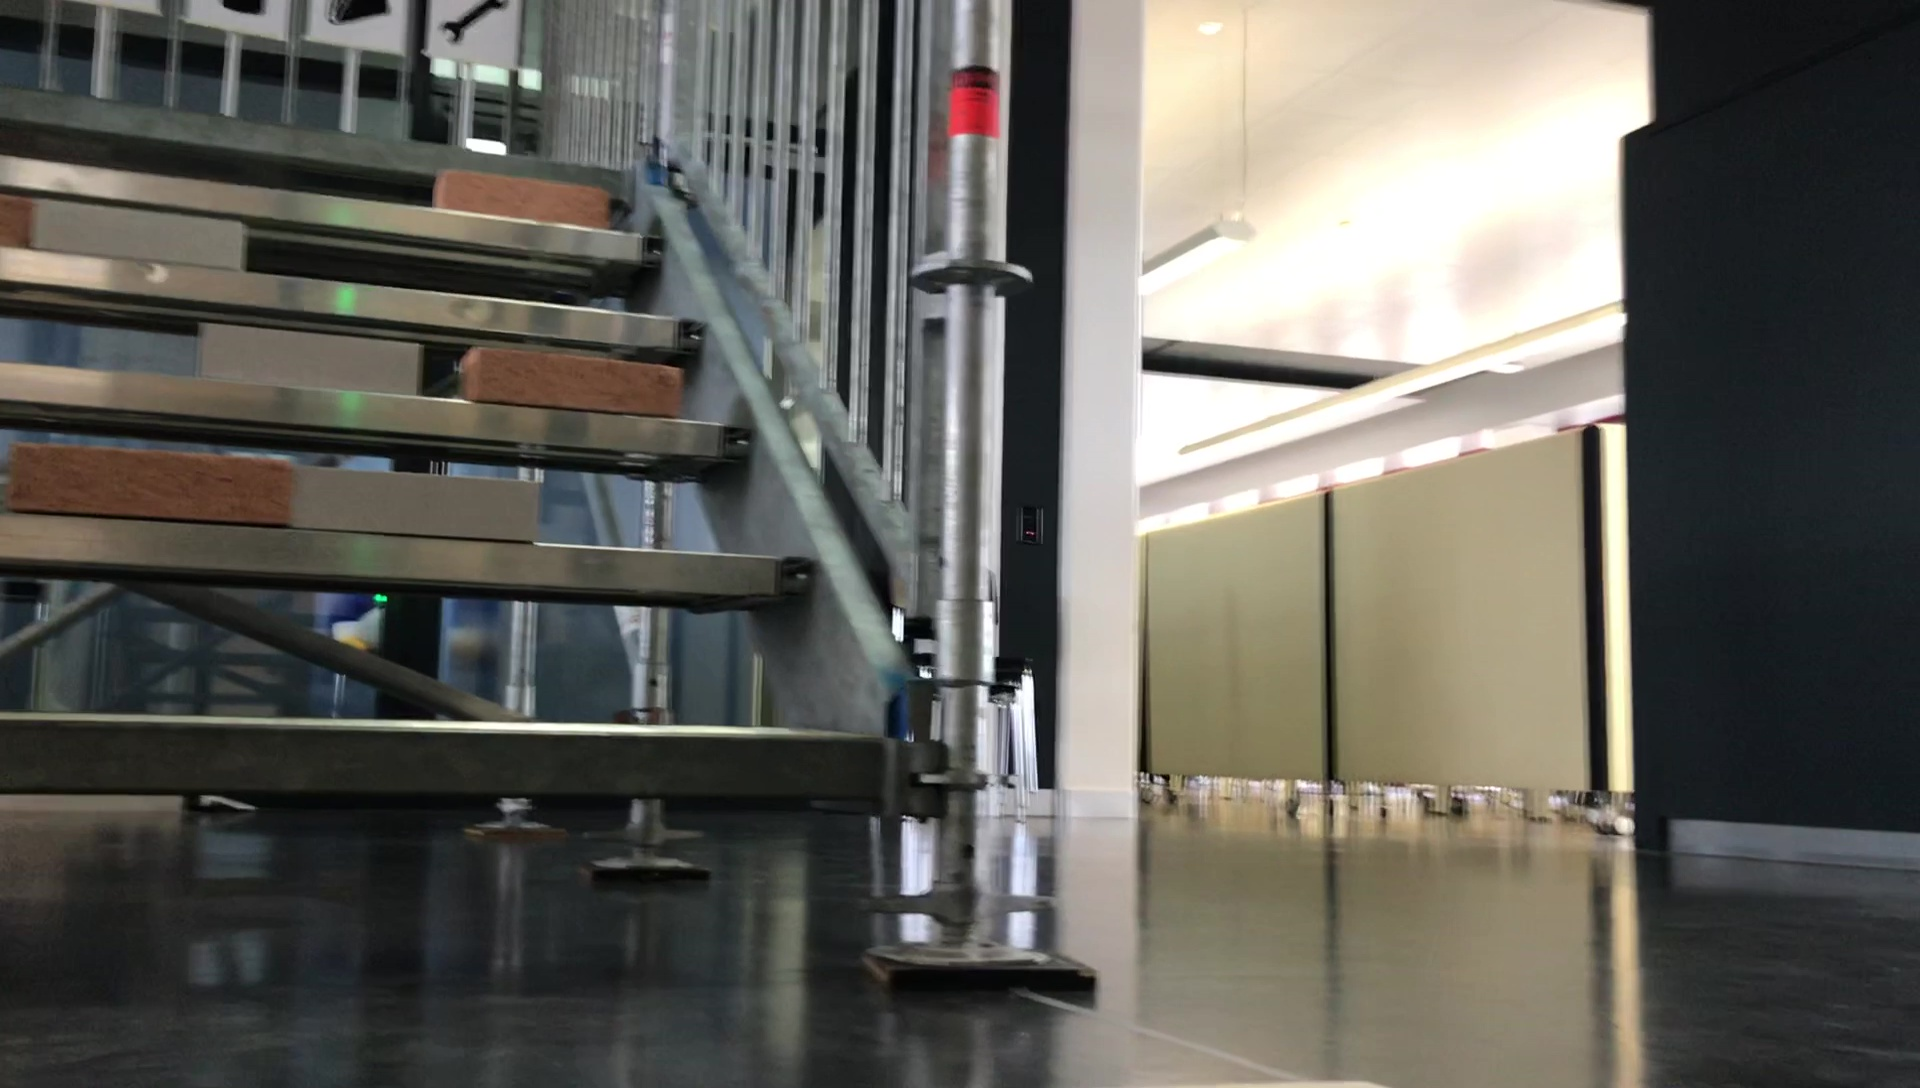brick: (285, 467, 554, 535), (1, 448, 278, 506), (465, 347, 670, 417), (418, 158, 632, 222), (24, 204, 260, 261), (185, 338, 442, 388)
edge: (0, 713, 899, 799), (0, 517, 825, 582), (0, 375, 764, 433), (0, 286, 708, 317)
steps: (0, 98, 928, 830)
